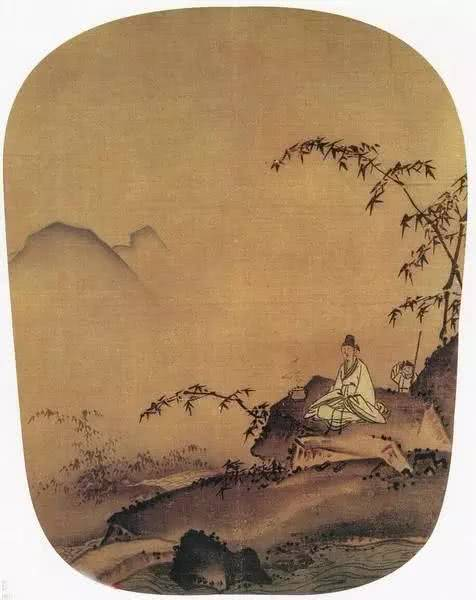bamboo: (268, 125, 471, 345), (139, 384, 280, 449), (26, 402, 111, 466)
bridge: (71, 523, 189, 596)
kid: (385, 358, 427, 393)
man: (308, 332, 383, 430)
mountain: (1, 220, 211, 331)
river: (73, 540, 419, 589)
